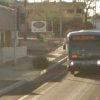Bus: (60, 26, 100, 75)
